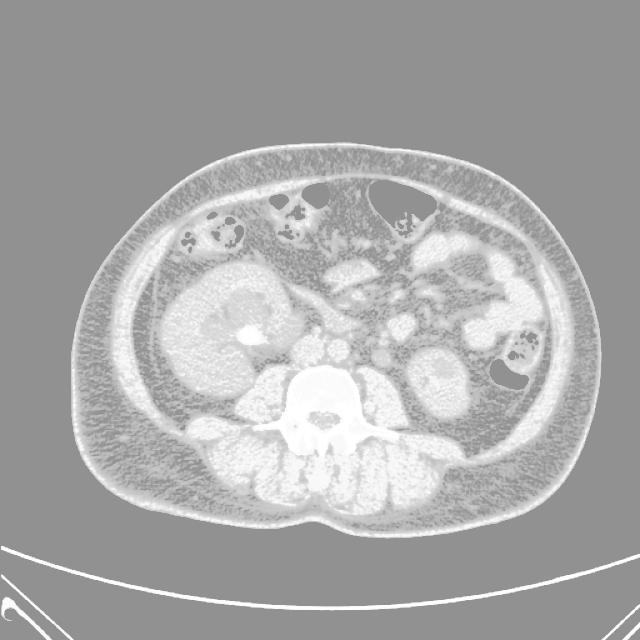STONE: (145, 134, 573, 407)
